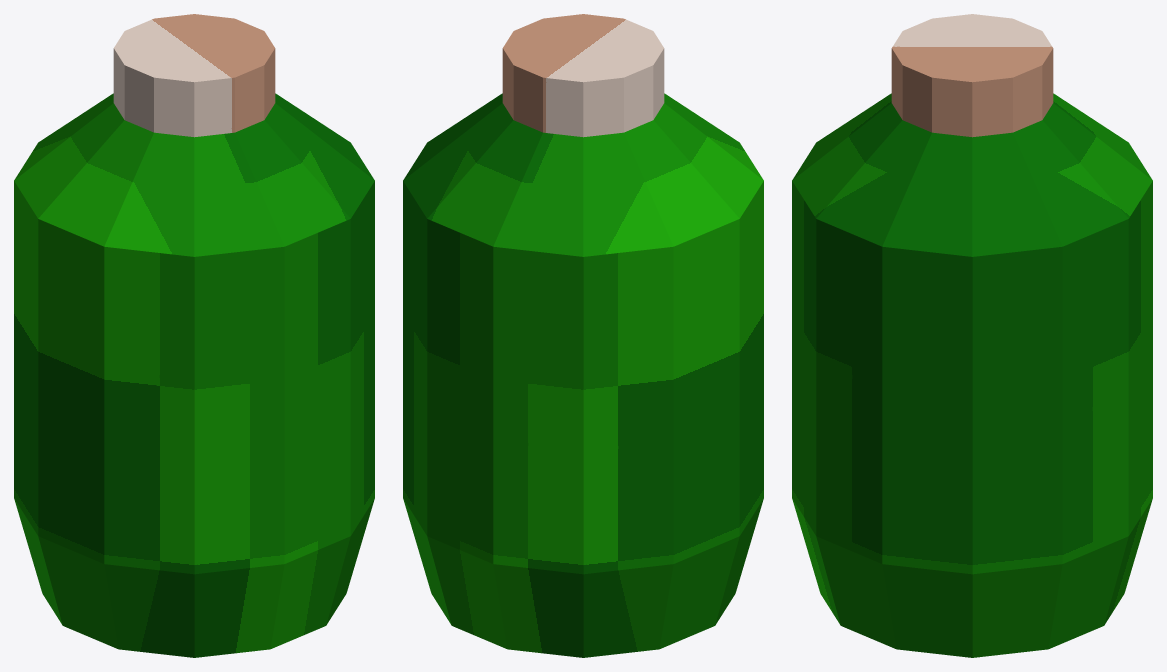
File: bottle_616x00.gltf
3 views of the same model, side by side, from view 1: azimuth 30°, elevation 25°; view 2: azimuth 150°, elevation 25°; view 3: azimuth 270°, elevation 25° (orthographic).
Parts seen in each view (by area): view 1: bottle_616x00; view 2: bottle_616x00; view 3: bottle_616x00.
Part boxes in pixels (<box>): bottle_616x00: <box>14,14,374,657</box>; bottle_616x00: <box>403,14,763,657</box>; bottle_616x00: <box>792,14,1152,657</box>.
Bounding box in the file's own units: 0.6 × 1 × 0.6.
1 material, 1 textured.
